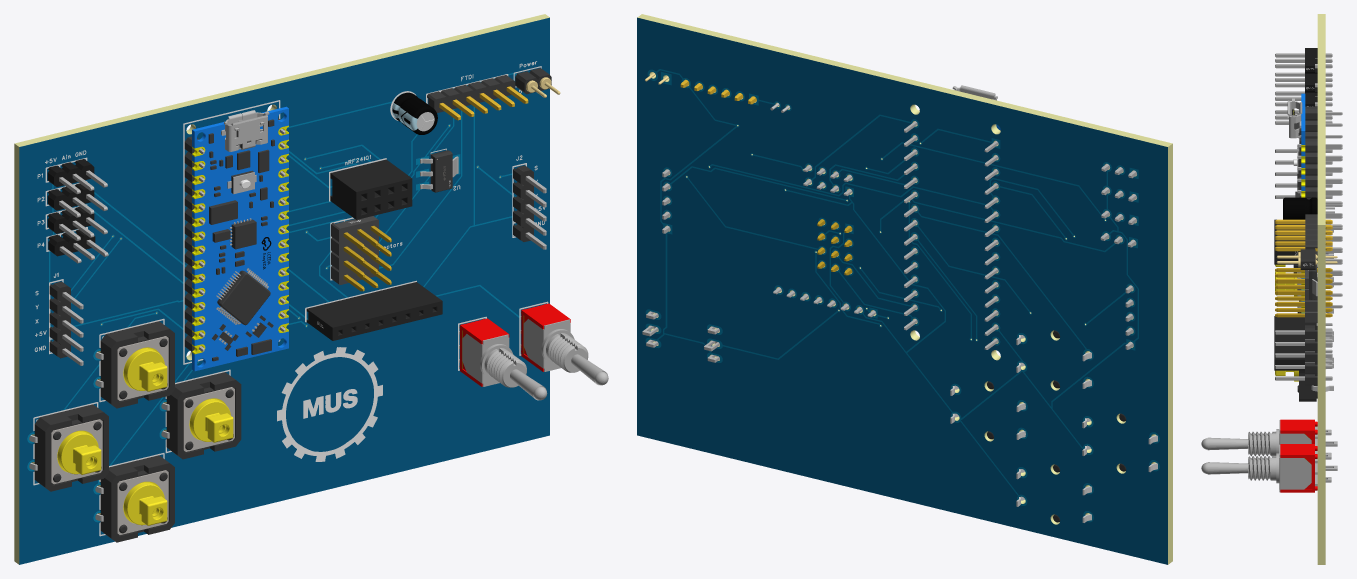
Rendered from RC Transmitter Mini.obj.
3 views of the same model, side by side, from view 1: azimuth 30°, elevation 25°; view 2: azimuth 150°, elevation 25°; view 3: azimuth 270°, elevation 25° (orthographic). The views are drawn at different scales.
Parts seen in each view (by area): view 1: obj26, obj27, obj30, obj3, obj4, obj15, obj2, obj21, obj8, obj28, obj22, obj20 (+8 smaller); view 2: obj26, obj28, obj8, obj3, obj6, obj19; view 3: obj3, obj8, obj4, obj15, obj11, obj27, obj24, obj12, obj6, obj20, obj5, obj25 (+5 smaller).
Boxes of the visible parts, x1,y1,x2,y2 form: obj26: [19, 17, 549, 564]; obj27: [34, 68, 551, 542]; obj30: [192, 106, 288, 371]; obj3: [54, 128, 608, 400]; obj4: [184, 75, 515, 361]; obj15: [306, 159, 442, 340]; obj2: [33, 61, 548, 536]; obj21: [57, 347, 233, 525]; obj8: [14, 14, 549, 564]; obj28: [27, 72, 519, 522]; obj22: [51, 336, 234, 534]; obj20: [47, 159, 95, 256]; obj26: [637, 17, 1167, 564]; obj28: [645, 69, 1159, 522]; obj8: [637, 14, 1172, 564]; obj3: [642, 121, 1136, 362]; obj6: [904, 85, 998, 349]; obj19: [950, 335, 1157, 522]; obj3: [1201, 53, 1342, 492]; obj8: [1317, 14, 1325, 564]; obj4: [1292, 106, 1317, 313]; obj15: [1274, 219, 1316, 370]; obj11: [1275, 268, 1332, 317]; obj27: [1297, 249, 1317, 401]; obj24: [1280, 419, 1317, 492]; obj12: [1275, 219, 1332, 251]; obj6: [1287, 98, 1342, 296]; obj20: [1305, 48, 1317, 106]; obj5: [1283, 197, 1326, 249]; obj25: [1305, 267, 1317, 323].
Bounding box in the file's own units: 99.97 × 75.21 × 28.3.
